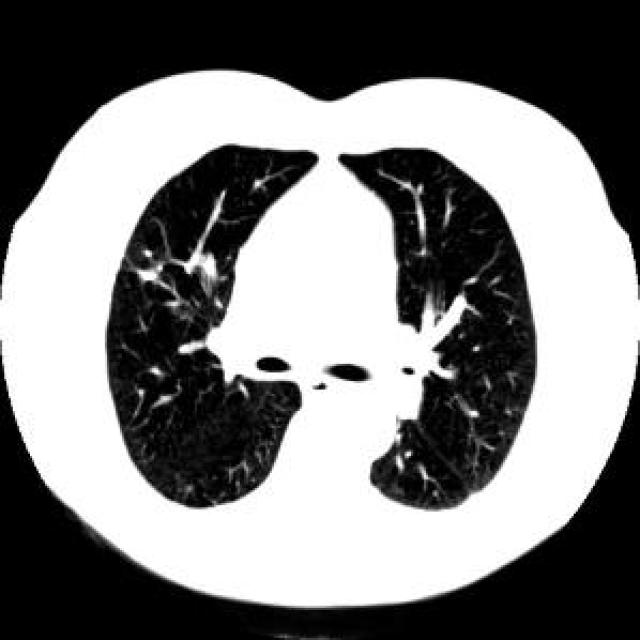Tumor: (142, 264, 162, 280)
